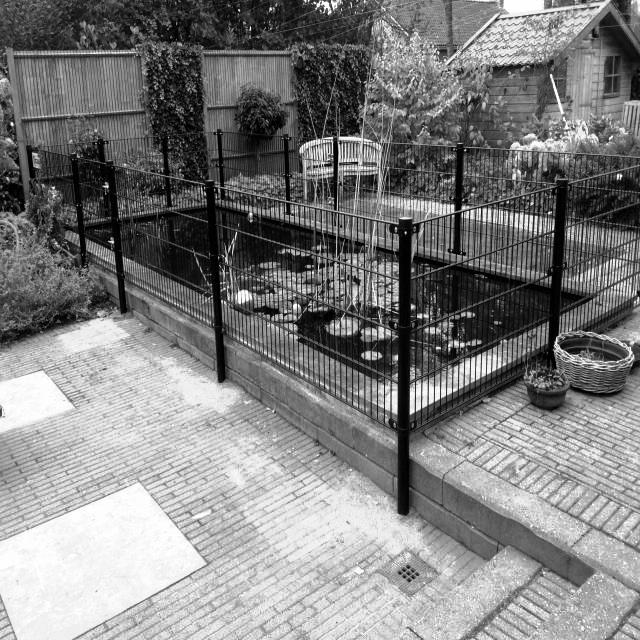fences: (51, 135, 542, 414)
